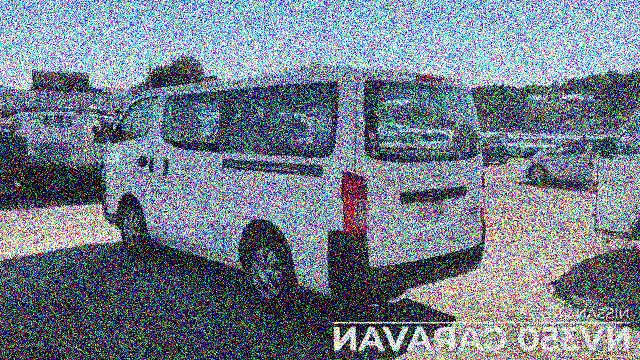van: (102, 65, 491, 304)
